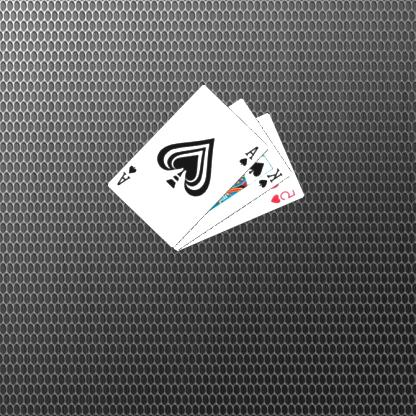5H: (270, 186, 300, 205)
AS: (116, 162, 140, 187), (238, 144, 262, 168)
KS: (258, 166, 286, 190)
